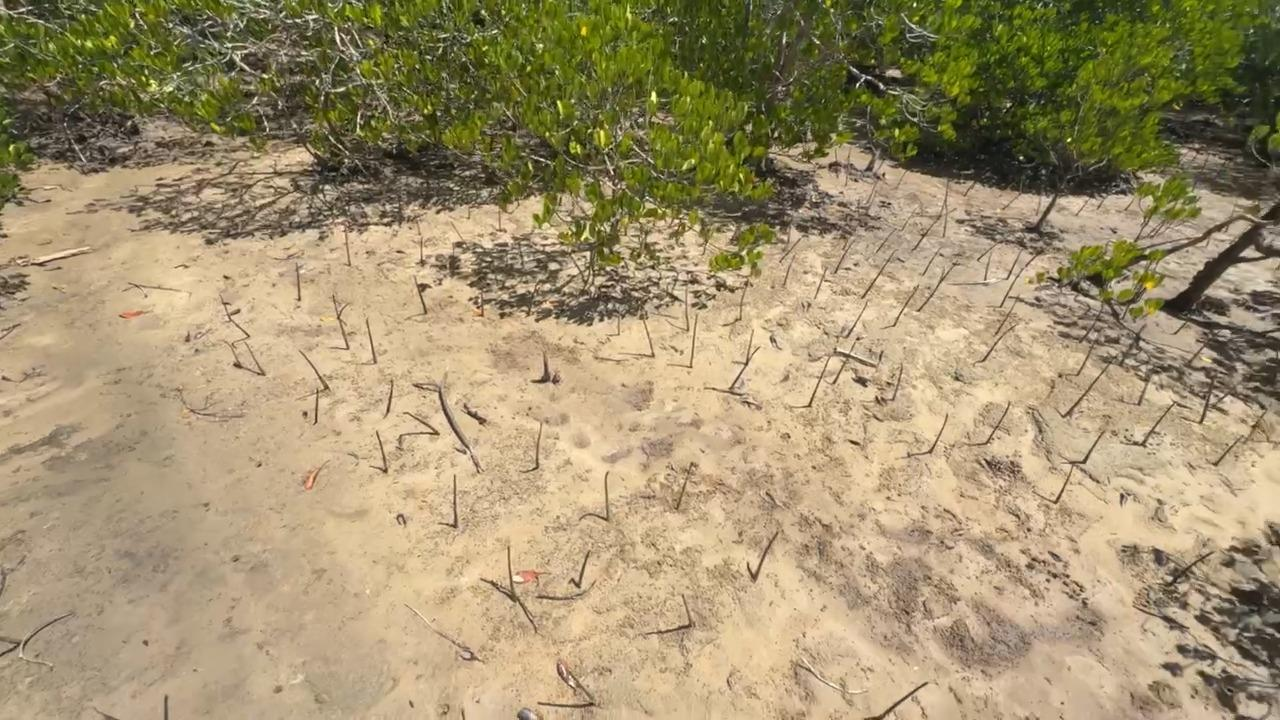Tree: (403, 602, 485, 663), (1119, 297, 1166, 367), (1062, 360, 1113, 417), (1079, 288, 1115, 343), (860, 249, 899, 299), (1166, 551, 1217, 586), (883, 681, 930, 715), (1140, 402, 1176, 445), (728, 346, 761, 390), (981, 324, 1017, 362), (917, 265, 945, 312), (219, 295, 250, 337), (752, 531, 778, 581), (298, 349, 329, 389), (808, 355, 831, 407), (985, 400, 1011, 444), (1187, 330, 1221, 363), (893, 284, 919, 327), (832, 342, 856, 384), (995, 294, 1020, 334), (1000, 267, 1024, 307), (911, 218, 940, 251), (402, 411, 440, 435), (845, 301, 868, 338), (675, 462, 693, 509), (928, 412, 948, 454), (1053, 465, 1074, 504), (1214, 437, 1242, 466), (569, 670, 595, 701), (1082, 430, 1105, 464), (834, 240, 856, 274), (244, 342, 266, 375), (1199, 377, 1214, 423), (695, 219, 713, 255), (922, 246, 943, 276), (507, 545, 518, 602), (365, 317, 378, 364), (778, 237, 802, 262), (1076, 343, 1094, 376), (413, 275, 428, 314), (689, 313, 699, 368), (578, 550, 592, 588), (1006, 249, 1023, 280), (876, 228, 897, 253), (376, 430, 388, 473), (643, 315, 655, 358), (977, 240, 1001, 261), (814, 266, 828, 300), (223, 340, 241, 366), (782, 254, 796, 287), (891, 363, 903, 401), (1137, 373, 1151, 405), (1211, 388, 1231, 409), (338, 316, 350, 350), (681, 594, 693, 627), (1224, 202, 1237, 232), (901, 207, 917, 231), (703, 387, 745, 396), (535, 422, 543, 469), (1001, 193, 1021, 210), (453, 473, 459, 529), (865, 180, 879, 204), (746, 329, 755, 366), (739, 281, 747, 321), (1075, 196, 1091, 216), (604, 470, 610, 522), (940, 263, 957, 281), (1251, 409, 1267, 428), (1174, 315, 1190, 334), (344, 225, 351, 266), (895, 167, 908, 189), (844, 147, 851, 187), (684, 288, 690, 332), (983, 252, 992, 281), (451, 221, 464, 241), (387, 380, 394, 414), (543, 351, 550, 383), (963, 180, 976, 197), (332, 294, 340, 320), (296, 262, 301, 301), (1025, 254, 1040, 267), (1095, 195, 1108, 210), (314, 388, 319, 423), (868, 190, 877, 207), (841, 236, 851, 250), (834, 150, 839, 178), (1124, 198, 1134, 211), (164, 695, 169, 720), (1035, 196, 1041, 216), (480, 289, 484, 317), (420, 237, 423, 263), (1019, 176, 1023, 195), (416, 220, 421, 235), (498, 207, 501, 230), (618, 312, 620, 336), (468, 206, 471, 220)
